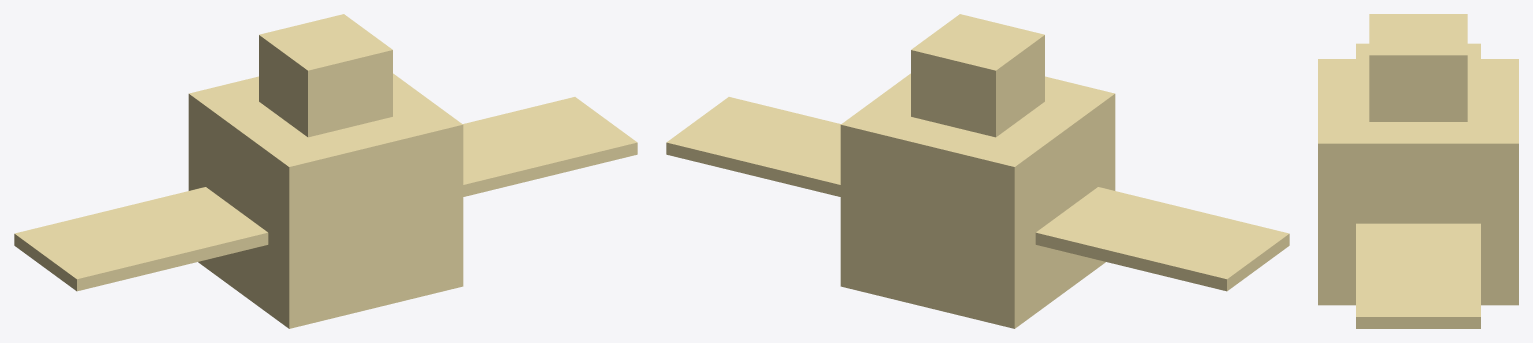
File: venus.glb
The picture shows the model from 3 angles, left to right: view 1: azimuth 30°, elevation 25°; view 2: azimuth 150°, elevation 25°; view 3: azimuth 270°, elevation 25°; orthographic projection.
Visible parts, largest first — view 1: venus-node; view 2: venus-node; view 3: venus-node.
Part boxes in pixels (x1=…): venus-node: x1=14, y1=14, x2=637, y2=328; venus-node: x1=666, y1=14, x2=1289, y2=328; venus-node: x1=1318, y1=14, x2=1518, y2=328.
Size of the model in its own units: 2.9 by 1.13 by 0.9.
